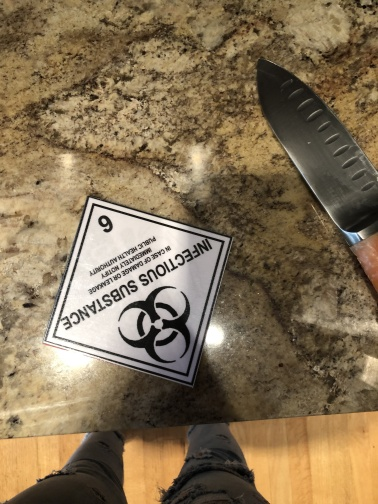InfectiousSubstance: (45, 197, 230, 385)
